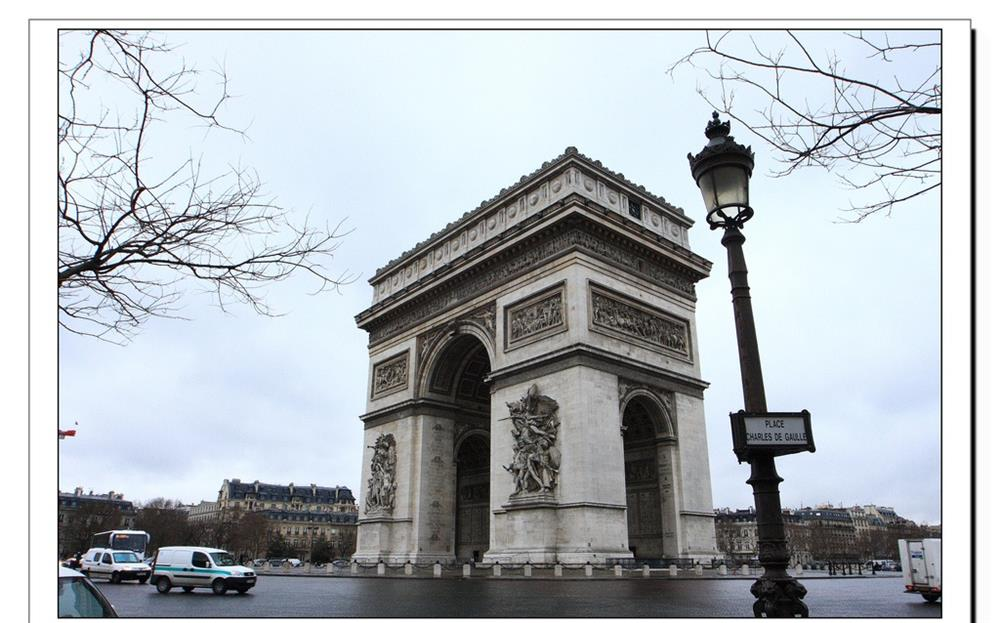Triumphal_Arch: (346, 147, 727, 561)
